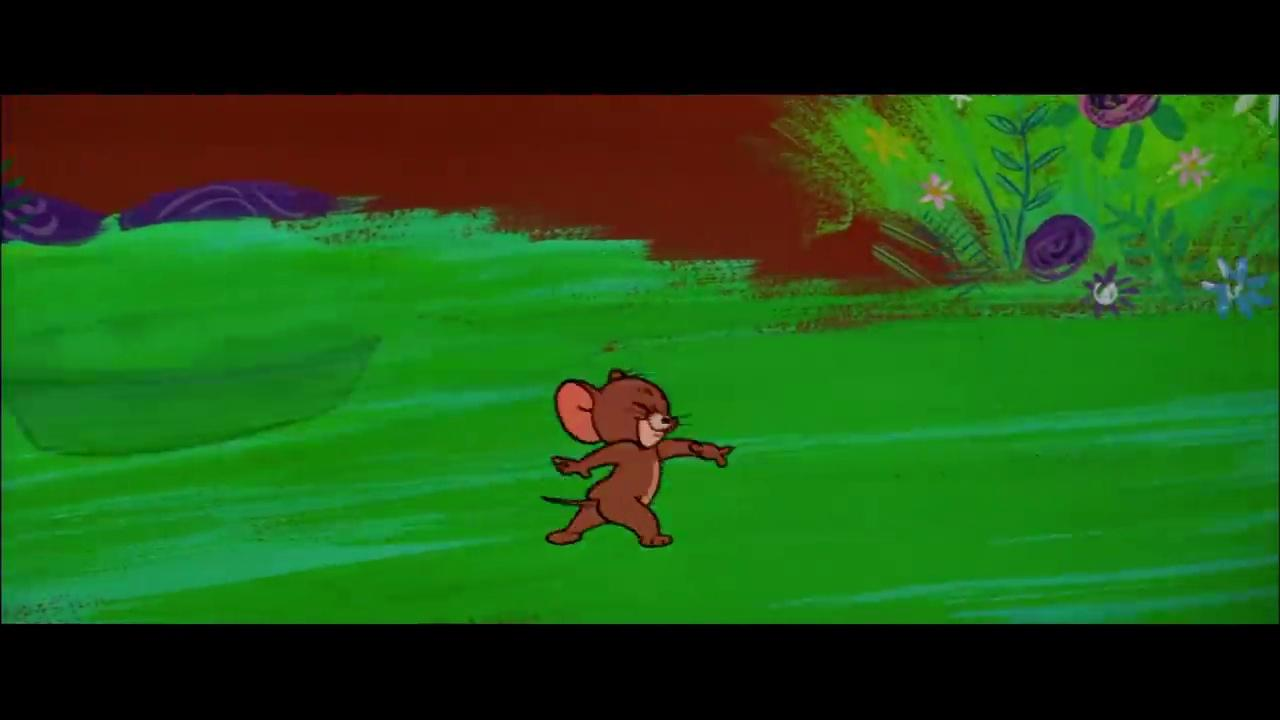Jerry: (539, 366, 735, 548)
